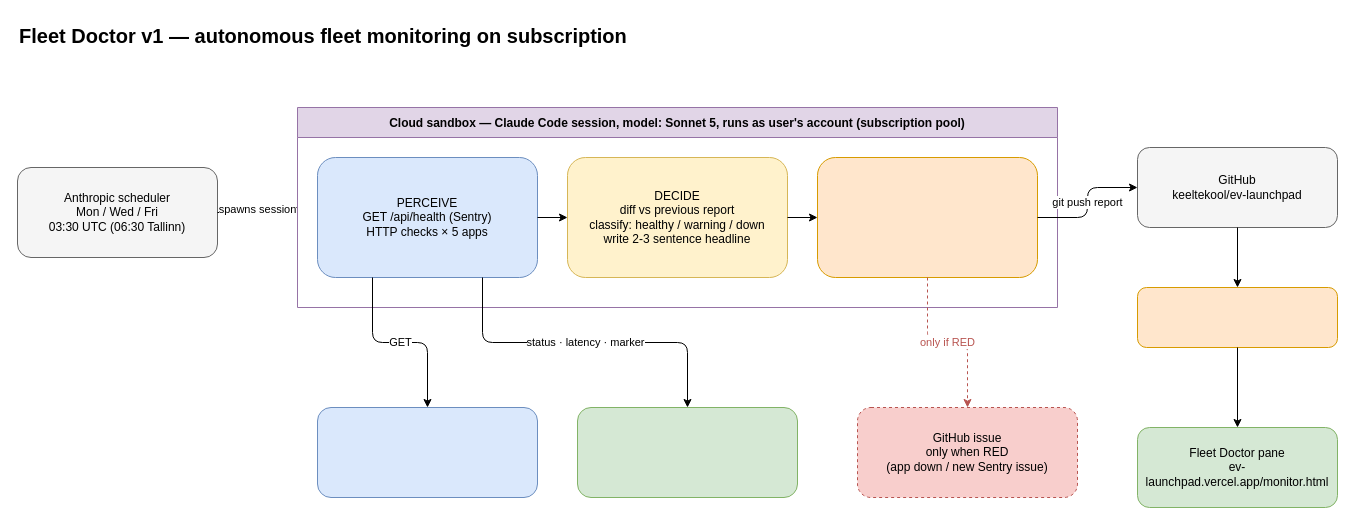
This 1355x525 diagram has some shape labels left out. Each missing label, with the box of its shape:
5 live apps ApplyKit · HankeRadar · Hinnavaht Keepr · Athlon: (576, 406, 798, 498)
ACT write fleet-report.json git commit + push: (816, 156, 1038, 278)
Launchpad /api/health (Vercel fn — Sentry token stays in Vercel env): (316, 406, 538, 498)
Vercel auto-deploy: (1136, 286, 1338, 348)
